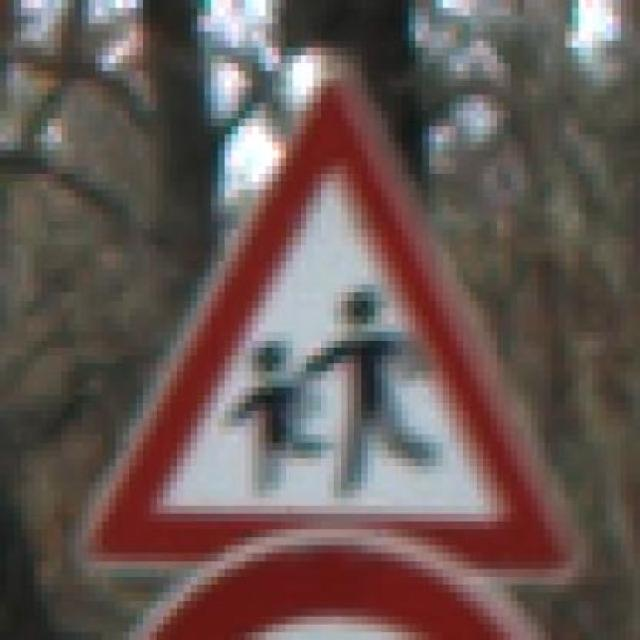Beware of children: (68, 46, 606, 583)
